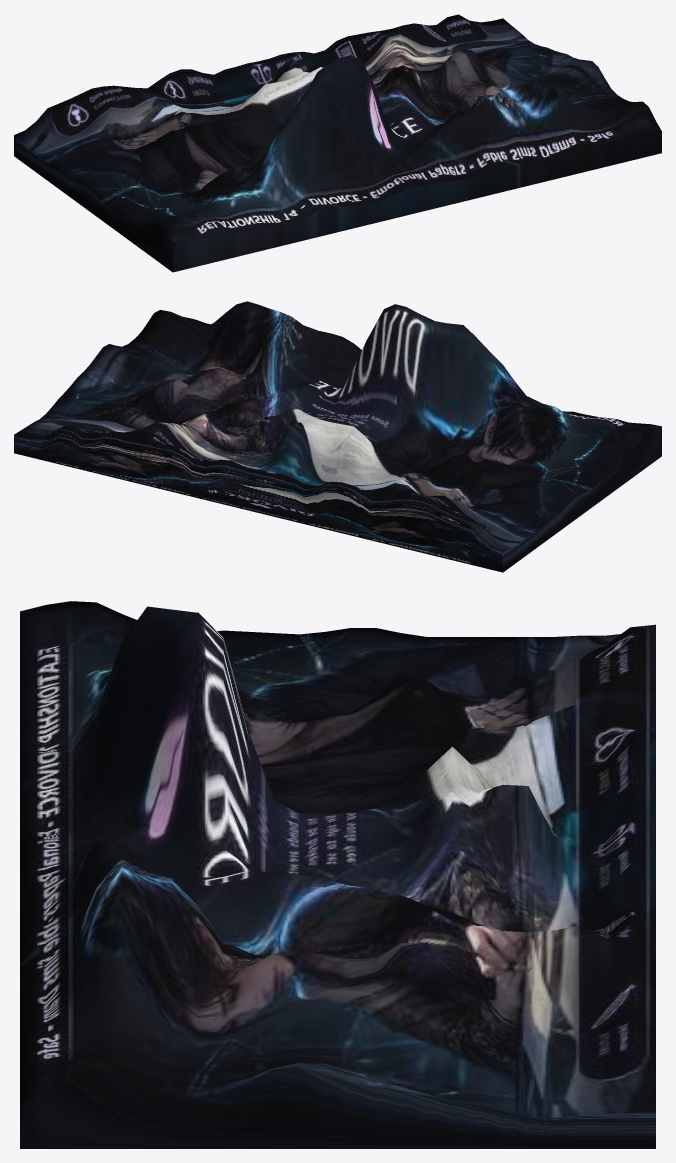
File: RELATIONSHIP_14_Divorce.glb
3 renders of one model, top to bottom at view 1: azimuth 30°, elevation 25°; view 2: azimuth 150°, elevation 25°; view 3: azimuth 270°, elevation 25°, orthographic. The views are drawn at different scales.
Parts seen in each view (by area): view 1: RELATIONSHIP_14_Divorce; view 2: RELATIONSHIP_14_Divorce; view 3: RELATIONSHIP_14_Divorce.
Part boxes in pixels (<box>): RELATIONSHIP_14_Divorce: <box>14,14,661,272</box>; RELATIONSHIP_14_Divorce: <box>14,301,661,572</box>; RELATIONSHIP_14_Divorce: <box>20,601,655,1148</box>.
Bounding box in the file's own units: 2 × 0.51 × 1.13.
Materials: 1 (1 with a texture image).
